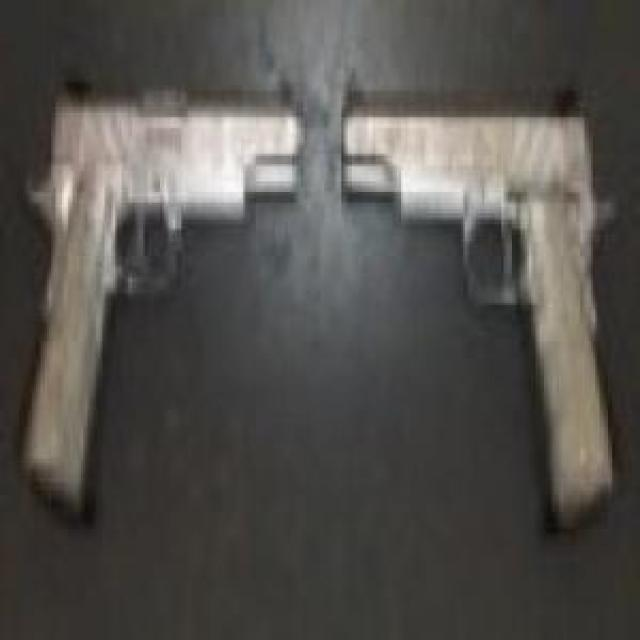pistol: (17, 60, 309, 518), (346, 64, 620, 544)
